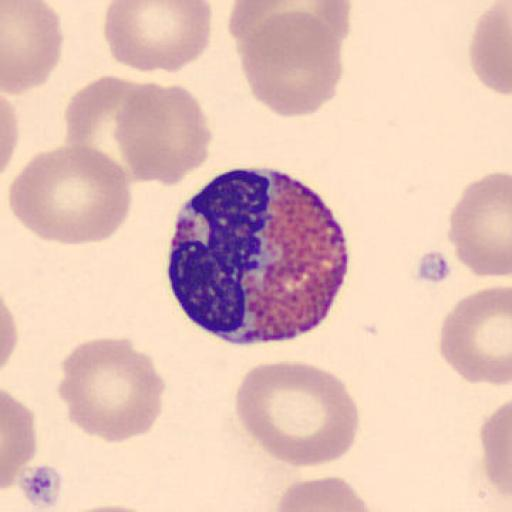RBC: (234, 360, 362, 470), (8, 142, 133, 247), (57, 336, 166, 444), (238, 10, 346, 118), (113, 80, 214, 188), (63, 74, 146, 184), (103, 0, 213, 76), (227, 0, 349, 66), (438, 284, 512, 386), (448, 170, 512, 279), (0, 0, 64, 96), (248, 0, 354, 48), (468, 1, 512, 99), (0, 387, 38, 495), (274, 474, 378, 512), (479, 398, 512, 504), (0, 91, 21, 182), (1, 296, 19, 374), (54, 502, 166, 512)
WBC: (164, 164, 351, 345)
